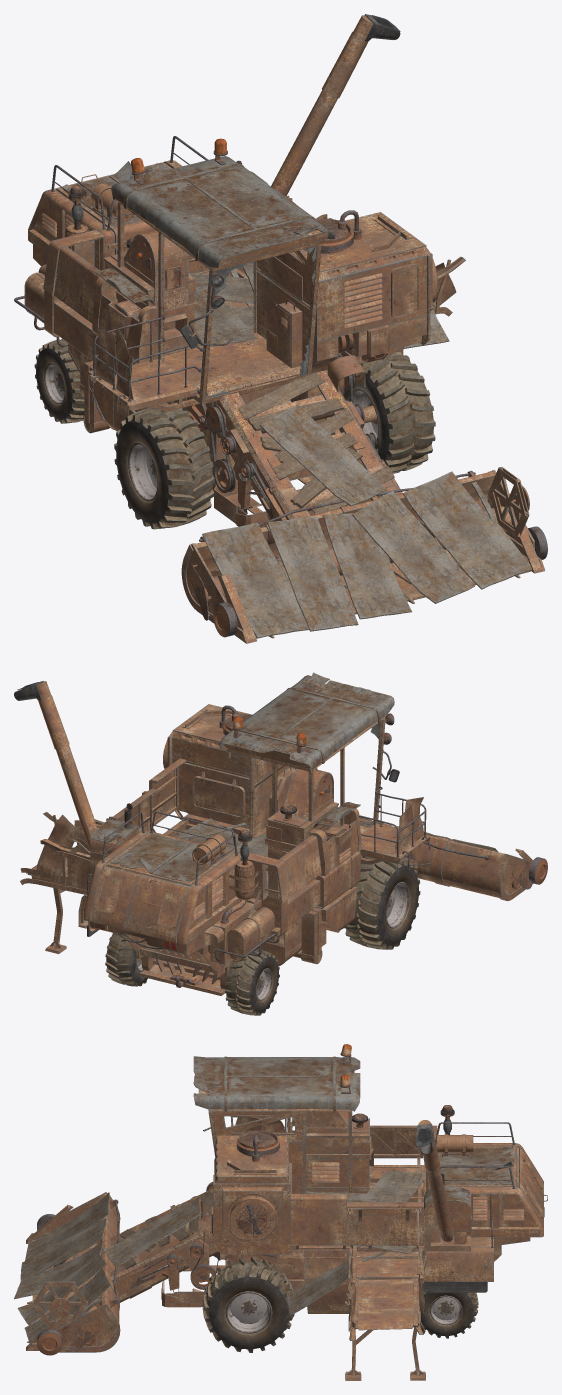
Rendered from Harvester.fbx.
The picture shows the model from 3 angles, top to bottom: view 1: azimuth 30°, elevation 25°; view 2: azimuth 150°, elevation 25°; view 3: azimuth 270°, elevation 25°; orthographic projection. The views are drawn at different scales.
Parts seen in each view (by area): view 1: SM_FAR_Harvester_01.mo; view 2: SM_FAR_Harvester_01.mo; view 3: SM_FAR_Harvester_01.mo.
Part boxes in pixels (x1,y1,x2,y2): SM_FAR_Harvester_01.mo: (14,14,547,643); SM_FAR_Harvester_01.mo: (14,672,547,1015); SM_FAR_Harvester_01.mo: (14,1044,547,1380).
Bounding box in the file's own units: 923 × 695 × 1270.
